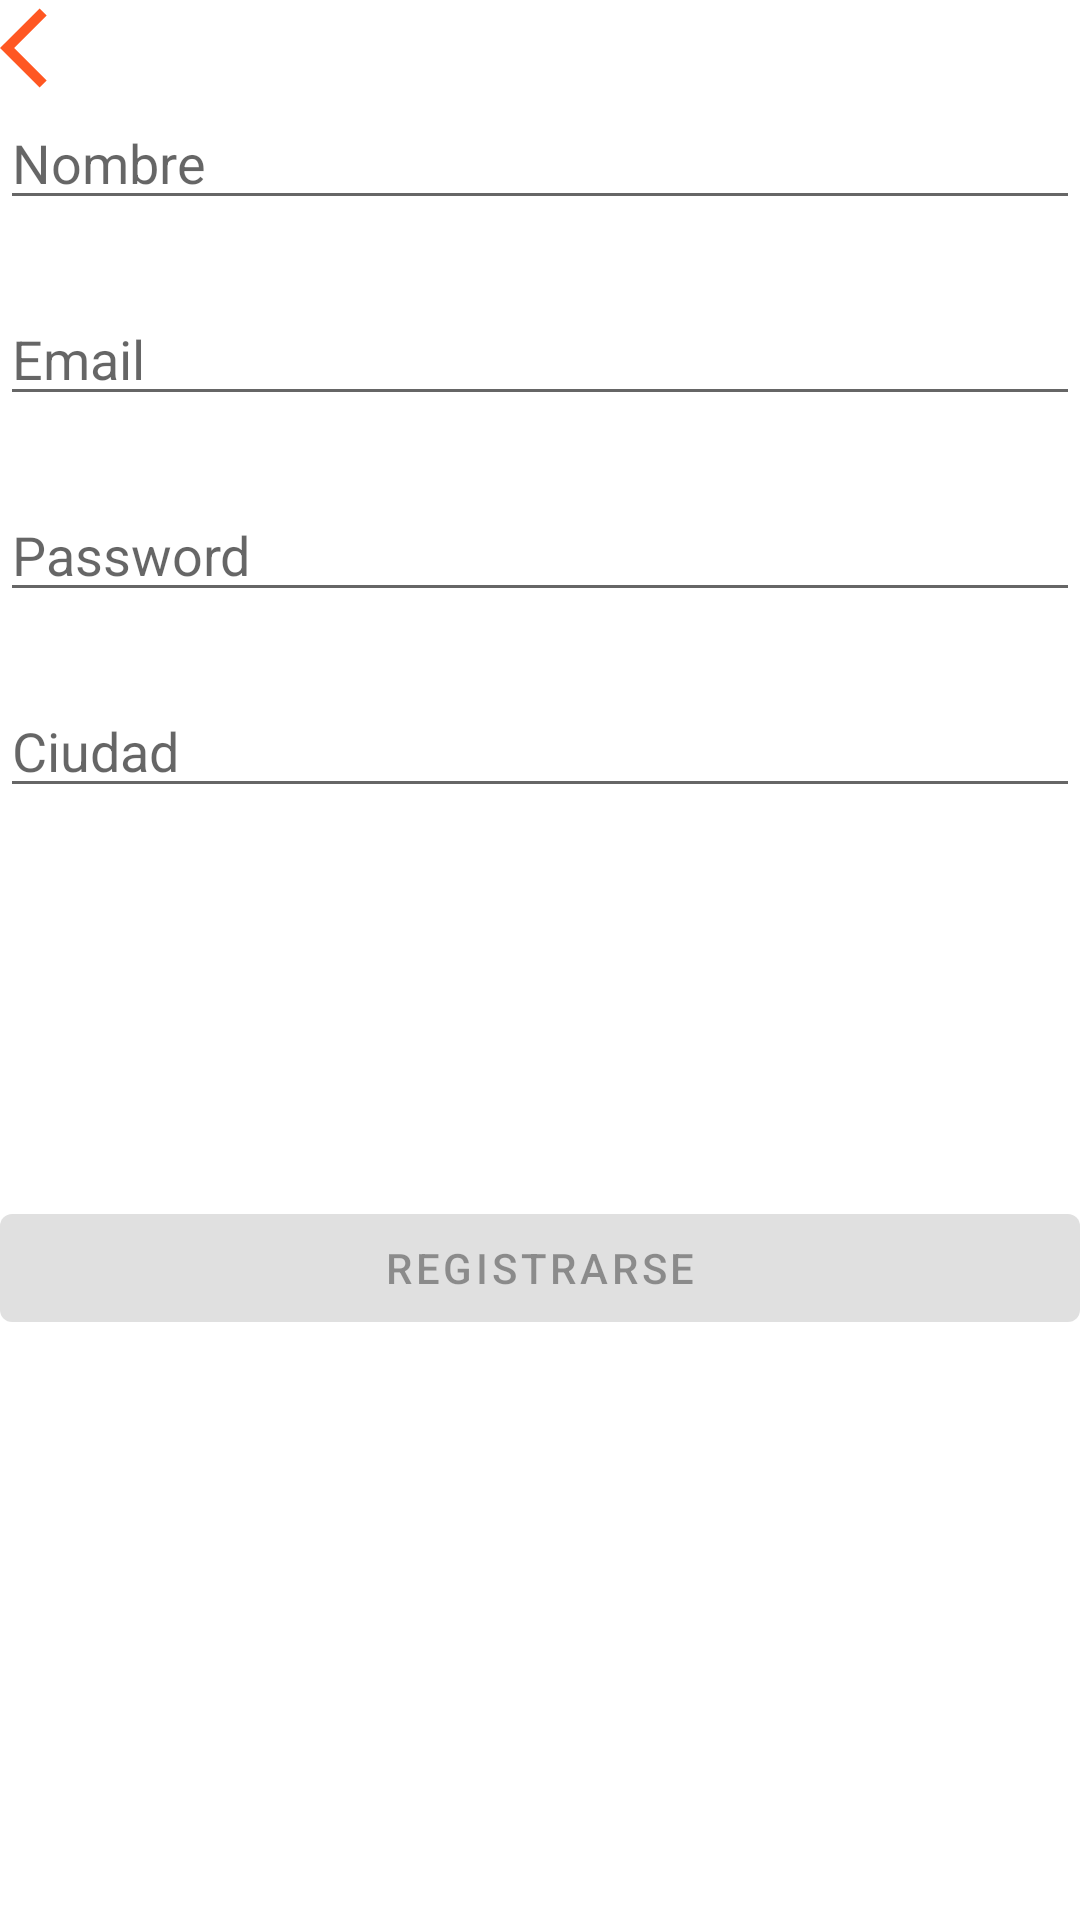

Icons on this 1080*1920 Android screen, each with its box as detection(x1, y1, x2, y2):
arrow back: detection(0, 8, 47, 88)
